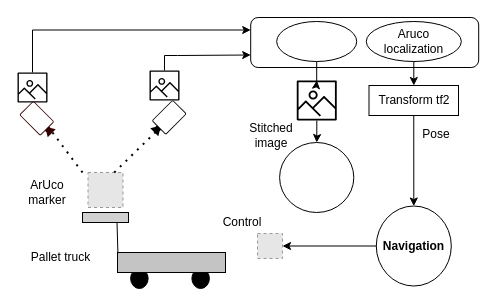
The diagram is 496 pixels wide and 306 high, and some of its shapes have lost their labels. Grey dashed boxes stand in for pictures. Here are the shapes that lost their labels. From the top down, the centre of each, then its label:
At (316,41): "Stitching".
At (316,177): "Monitoring".
